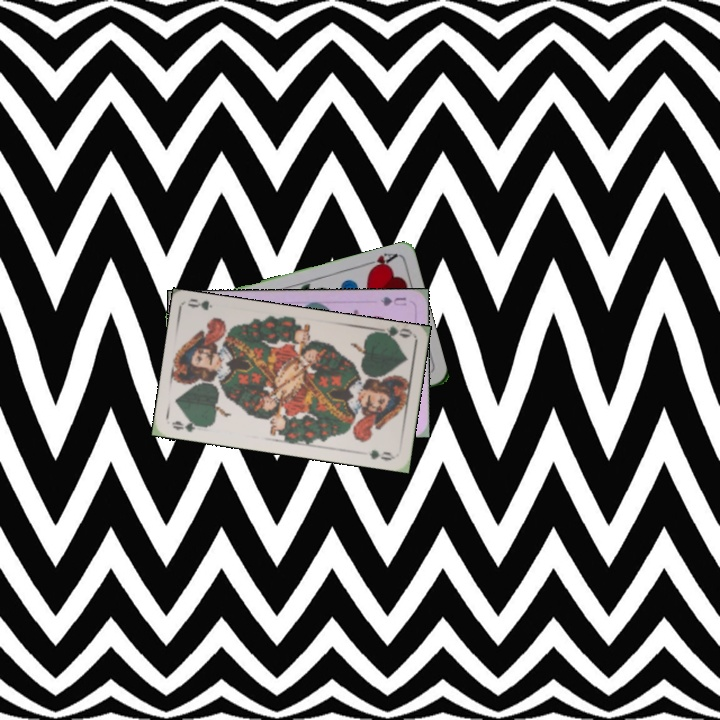GO: (372, 324, 413, 345), (168, 416, 208, 435)
GU: (377, 293, 409, 309)
HA: (360, 249, 400, 274)
